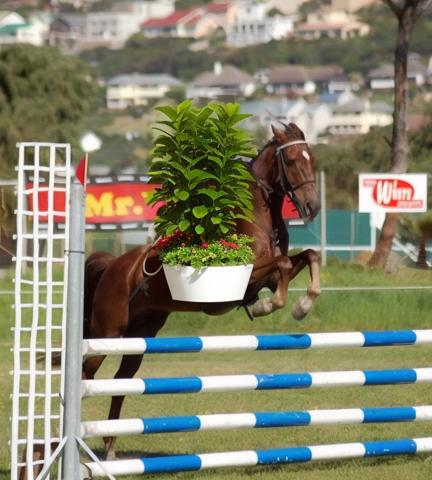horse: (25, 123, 322, 480)
pottedplant: (146, 97, 253, 304)
